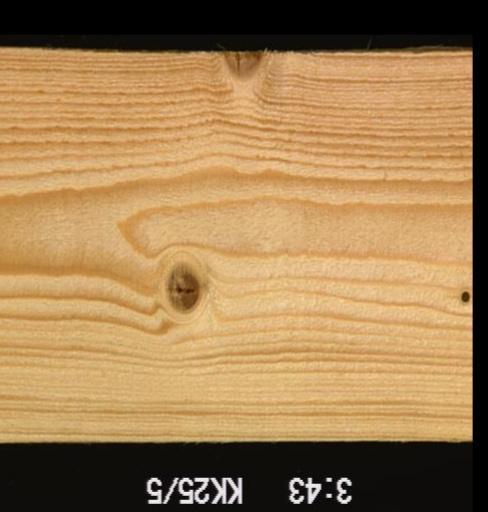dry_knot: (458, 288, 470, 304)
edge_knot: (217, 46, 272, 84)
sound_knot: (161, 262, 202, 316)
